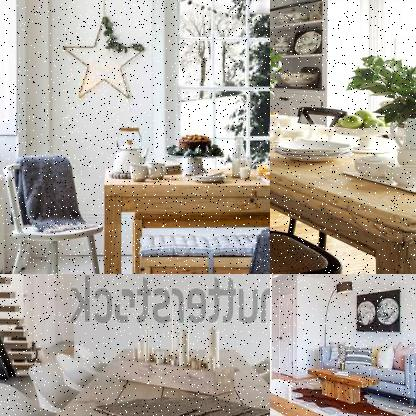table: (270, 98, 415, 273), (95, 156, 269, 273), (21, 344, 269, 415), (270, 358, 356, 415)
